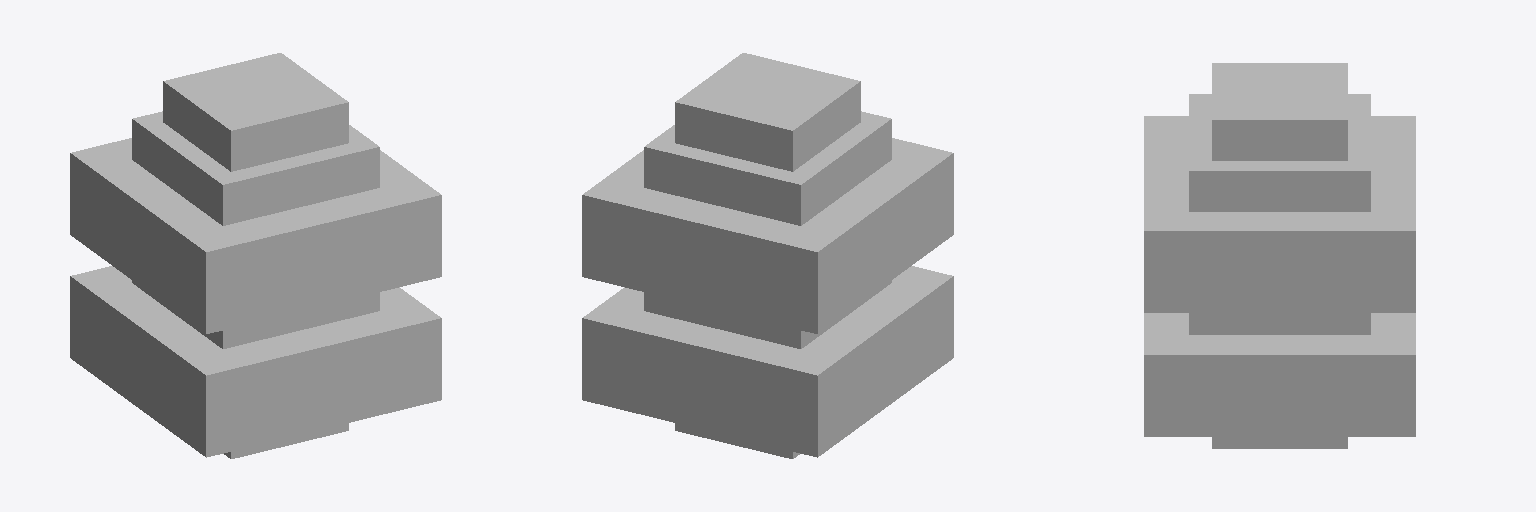
The model's file is connectorLV.obj.
3 renders of one model, left to right at view 1: azimuth 30°, elevation 25°; view 2: azimuth 150°, elevation 25°; view 3: azimuth 270°, elevation 25°, orthographic.
Visible parts, largest first — view 1: connectorLV; view 2: connectorLV; view 3: connectorLV.
Boxes of the visible parts, box(x1,y1,x2,y2) form: connectorLV: box(70, 53, 441, 458); connectorLV: box(582, 53, 953, 458); connectorLV: box(1144, 63, 1415, 448).
Size of the model in its own units: 0.375 by 0.5 by 0.375.